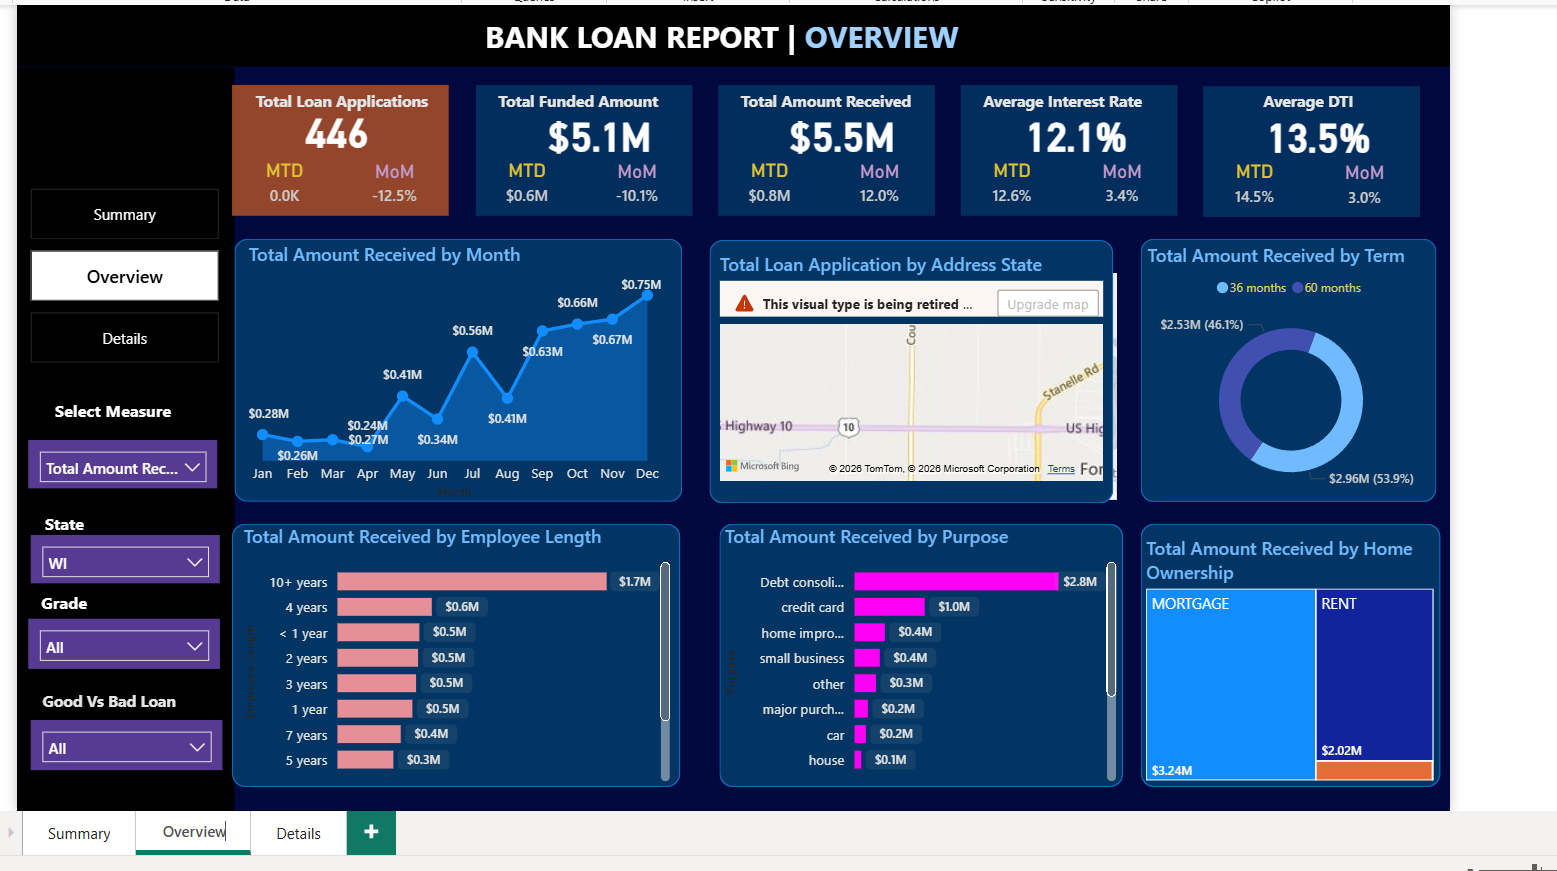

This screenshot's page, from the dashboard's own definition file:
{"tool":"powerbi","page":{"name":"Overview","canvas":[1280,720],"ordinal":1},"visuals":[{"type":"shape","box":[0,55.5,194.2,664.5],"z":0},{"type":"shape","box":[410.2,71.3,193.7,117],"z":0,"group":"g3"},{"type":"shape","box":[626.7,71.3,193.7,117],"z":0,"group":"g4"},{"type":"shape","box":[843.2,71.3,193.7,117],"z":0,"group":"g5"},{"type":"shape","box":[192.3,71.4,193.7,117],"z":0,"group":"g1"},{"type":"shape","box":[1059.7,71.9,193.7,117],"z":0,"group":"g6"},{"type":"shape","box":[0,0,1280.3,55],"z":1000},{"type":"card","fields":{"Values":["bank_loan_data.Total Loan Application"]},"box":[228.8,76.7,113.6,69.9],"z":1000,"group":"g1"},{"type":"card","fields":{"Values":["bank_loan_data.Total Funded Amount"]},"box":[447.1,82,147.9,64.6],"z":1000,"group":"g3"},{"type":"card","fields":{"Values":["bank_loan_data.Total Amount Received"]},"box":[663.6,82,147.9,64.6],"z":1000,"group":"g4"},{"type":"card","fields":{"Values":["bank_loan_data.Avg Interest Rate"]},"box":[872.1,82.5,147.9,64.6],"z":1000,"group":"g5"},{"type":"card","fields":{"Values":["bank_loan_data.Avg DTI"]},"box":[1088.6,83.1,147.9,64.6],"z":1000,"group":"g6"},{"type":"textbox","box":[204.7,71.3,197.8,40.3],"z":2000,"group":"g1"},{"type":"textbox","box":[420.9,71.3,197.8,40.3],"z":2000,"group":"g3"},{"type":"textbox","box":[637.4,71.3,197.8,40.3],"z":2000,"group":"g4"},{"type":"textbox","box":[853.9,71.3,197.8,40.3],"z":2000,"group":"g5"},{"type":"textbox","box":[1070.1,71.3,169.4,40.3],"z":2000,"group":"g6"},{"type":"textbox","box":[21.7,347.3,136.3,41],"z":2000,"group":"g8"},{"type":"textbox","box":[12.1,447.4,95.3,31.4],"z":2000,"group":"g7"},{"type":"textbox","box":[12.1,517.4,83.2,31.4],"z":2000},{"type":"card","title":"MTD","fields":{"Values":["bank_loan_data.MTD Loan Applications"]},"box":[204.7,137.2,69.5,51.1],"z":3000,"group":"g1"},{"type":"card","title":"MTD","fields":{"Values":["bank_loan_data.MTD Funded Applications"]},"box":[420.9,137.2,69.5,51.1],"z":3000,"group":"g3"},{"type":"card","title":"MTD","fields":{"Values":["bank_loan_data.MTD Total Amount Received"]},"box":[637.4,137.2,69.5,51.1],"z":3000,"group":"g4"},{"type":"card","title":"MTD","fields":{"Values":["bank_loan_data.MTD Average Interest Rate"]},"box":[853.9,137.2,69.5,51.1],"z":3000,"group":"g5"},{"type":"card","title":"MTD","fields":{"Values":["bank_loan_data.MTD Average DTI"]},"box":[1070.4,137.8,69.5,51.1],"z":3000,"group":"g6"},{"type":"textbox","box":[9.6,607.8,156.8,31.4],"z":3000},{"type":"group","id":"g1","title":"Group 2","box":[192.3,71.3,210.2,117.1],"z":3005,"group":"g2"},{"type":"card","title":"MoM","fields":{"Values":["bank_loan_data.MoM Loan Applications"]},"box":[303,138.2,69.5,49.8],"z":4000,"group":"g1"},{"type":"card","title":"MoM","fields":{"Values":["bank_loan_data.MoM Total Funded Amount"]},"box":[519.1,138.2,69.5,49.8],"z":4000,"group":"g3"},{"type":"card","title":"MoM","fields":{"Values":["bank_loan_data.MoM Total Amount Received"]},"box":[735.6,138.2,69.5,49.8],"z":4000,"group":"g4"},{"type":"card","title":"MoM","fields":{"Values":["bank_loan_data.MoM Average Interest Rate"]},"box":[952.1,138.2,69.5,49.8],"z":4000,"group":"g5"},{"type":"card","title":"MoM","fields":{"Values":["bank_loan_data.MoM Average DTI"]},"box":[1168.6,138.9,69.5,49.8],"z":4000,"group":"g6"},{"type":"shape","box":[194.3,208.6,400,235],"z":4000},{"type":"esriVisual","fields":{"Size":["bank_loan_data.Total Amount Received"],"Location":["bank_loan_data.address_state"]},"box":[627.1,209.8,359.4,237.6],"z":5000},{"type":"textbox","box":[412.9,4,520.4,45.7],"z":6000},{"type":"group","id":"g2","title":"Group 1","box":[192.3,71.3,210.2,117.1],"z":7000},{"type":"group","id":"g3","title":"Group 2","box":[410.2,71.3,208.4,117],"z":8000},{"type":"group","id":"g4","title":"Group 2","box":[626.7,71.3,208.4,117],"z":9000},{"type":"group","id":"g5","title":"Group 2","box":[843.2,71.3,208.4,117],"z":10000},{"type":"group","id":"g6","title":"Group 2","box":[1059.7,71.3,193.7,117],"z":11000},{"type":"slicer","fields":{"Values":["bank_loan_data.address_state"]},"box":[12.1,474,168.8,43.4],"z":12000},{"type":"slicer","fields":{"Values":["bank_loan_data.grade"]},"box":[9.6,548.7,171.3,44.6],"z":13000},{"type":"slicer","fields":{"Values":["bank_loan_data.Good Vs Bad Loan"]},"box":[12.1,639.2,171.3,44.6],"z":14000},{"type":"group","id":"g7","title":"Group 2","box":[12.1,447.4,95.3,31.4],"z":15000},{"type":"areaChart","fields":{"Y":["bank_loan_data.Total Amount Received"],"Category":["Date Table.Month"]},"box":[202.6,211.1,378.7,235.2],"z":16000},{"type":"slicer","fields":{"Values":["Select Measure.Select Measure"]},"box":[9.6,388.3,168.8,43.4],"z":17000},{"type":"group","id":"g8","title":"Group 2","box":[21.7,347.3,136.3,41],"z":18000},{"type":"shape","box":[618.7,209.8,360.6,235.2],"z":19000},{"type":"shape","box":[1003.4,208.6,264.1,235.2],"z":20000},{"type":"donutChart","fields":{"Y":["bank_loan_data.Total Amount Received"],"Category":["bank_loan_data.term"]},"box":[1004.6,212.3,266.5,232.8],"z":21000},{"type":"shape","box":[191.8,463.1,400.4,235.2],"z":22000},{"type":"barChart","fields":{"Y":["bank_loan_data.Total Amount Received"],"Category":["bank_loan_data.emp_length"]},"box":[197.8,463.1,390.8,235.2],"z":23000},{"type":"shape","box":[627.1,463.1,360.6,235.2],"z":24000},{"type":"barChart","fields":{"Y":["bank_loan_data.Total Amount Received"],"Category":["bank_loan_data.purpose"]},"box":[627.1,463.1,359.4,235.2],"z":25000},{"type":"shape","box":[1003.4,463.1,267.7,235.2],"z":26000},{"type":"treemap","fields":{"Values":["bank_loan_data.Total Amount Received"],"Group":["bank_loan_data.home_ownership"]},"box":[1003.4,474,266.5,224.3],"z":27000},{"type":"pageNavigator","box":[12.1,164,168.8,158],"z":28000},{"type":"filledMap","title":"Total Loan Application by Address State","fields":{"Y":["bank_loan_data.Total Amount Received"],"Category":["bank_loan_data.address_state"]},"box":[623.5,219.5,352.2,211.1],"z":29000}]}

Visuals, with their boxes on the page's 1280x720 design canvas (x1, y1, x2, y2). These are canvas units, not pixel positions in the 1557x871 screenshot, which may show the page scaled, cropped or inside an application window:
shape: box=[0, 56, 194, 720]
shape: box=[410, 71, 604, 188]
shape: box=[627, 71, 820, 188]
shape: box=[843, 71, 1037, 188]
shape: box=[192, 71, 386, 188]
shape: box=[1060, 72, 1253, 189]
shape: box=[0, 0, 1280, 55]
card - bank_loan_data.Total Loan Application: box=[229, 77, 342, 147]
card - bank_loan_data.Total Funded Amount: box=[447, 82, 595, 147]
card - bank_loan_data.Total Amount Received: box=[664, 82, 812, 147]
card - bank_loan_data.Avg Interest Rate: box=[872, 82, 1020, 147]
card - bank_loan_data.Avg DTI: box=[1089, 83, 1236, 148]
textbox: box=[205, 71, 402, 112]
textbox: box=[421, 71, 619, 112]
textbox: box=[637, 71, 835, 112]
textbox: box=[854, 71, 1052, 112]
textbox: box=[1070, 71, 1240, 112]
textbox: box=[22, 347, 158, 388]
textbox: box=[12, 447, 107, 479]
textbox: box=[12, 517, 95, 549]
"MTD" card: box=[205, 137, 274, 188]
"MTD" card: box=[421, 137, 490, 188]
"MTD" card: box=[637, 137, 707, 188]
"MTD" card: box=[854, 137, 923, 188]
"MTD" card: box=[1070, 138, 1140, 189]
textbox: box=[10, 608, 166, 639]
"Group 2" group: box=[192, 71, 402, 188]
"MoM" card: box=[303, 138, 372, 188]
"MoM" card: box=[519, 138, 589, 188]
"MoM" card: box=[736, 138, 805, 188]
"MoM" card: box=[952, 138, 1022, 188]
"MoM" card: box=[1169, 139, 1238, 189]
shape: box=[194, 209, 594, 444]
esriVisual - bank_loan_data.Total Amount Received x bank_loan_data.address_state: box=[627, 210, 986, 447]
textbox: box=[413, 4, 933, 50]
"Group 1" group: box=[192, 71, 402, 188]
"Group 2" group: box=[410, 71, 619, 188]
"Group 2" group: box=[627, 71, 835, 188]
"Group 2" group: box=[843, 71, 1052, 188]
"Group 2" group: box=[1060, 71, 1253, 188]
slicer - bank_loan_data.address_state: box=[12, 474, 181, 517]
slicer - bank_loan_data.grade: box=[10, 549, 181, 593]
slicer - bank_loan_data.Good Vs Bad Loan: box=[12, 639, 183, 684]
"Group 2" group: box=[12, 447, 107, 479]
areaChart - bank_loan_data.Total Amount Received x Date Table.Month: box=[203, 211, 581, 446]
slicer - Select Measure.Select Measure: box=[10, 388, 178, 432]
"Group 2" group: box=[22, 347, 158, 388]
shape: box=[619, 210, 979, 445]
shape: box=[1003, 209, 1268, 444]
donutChart - bank_loan_data.Total Amount Received x bank_loan_data.term: box=[1005, 212, 1271, 445]
shape: box=[192, 463, 592, 698]
barChart - bank_loan_data.Total Amount Received x bank_loan_data.emp_length: box=[198, 463, 589, 698]
shape: box=[627, 463, 988, 698]
barChart - bank_loan_data.Total Amount Received x bank_loan_data.purpose: box=[627, 463, 986, 698]
shape: box=[1003, 463, 1271, 698]
treemap - bank_loan_data.Total Amount Received x bank_loan_data.home_ownership: box=[1003, 474, 1270, 698]
pageNavigator: box=[12, 164, 181, 322]
"Total Loan Application by Address State" filledMap: box=[624, 220, 976, 431]
